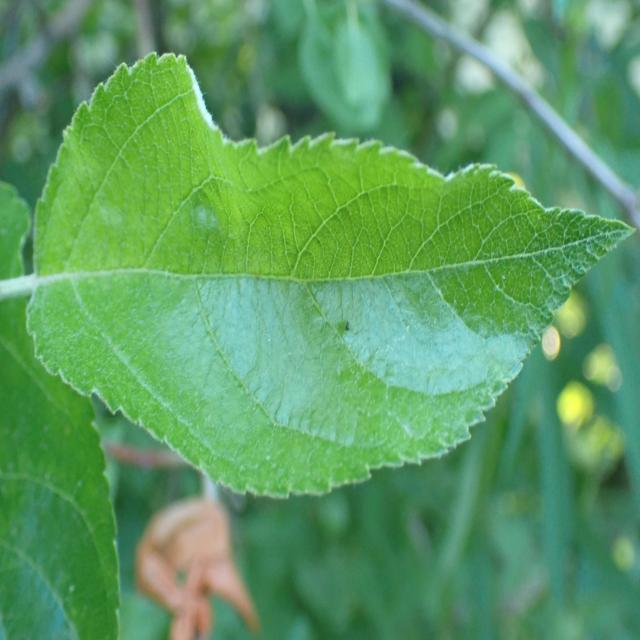healthy: (26, 51, 637, 498), (0, 181, 122, 640)
